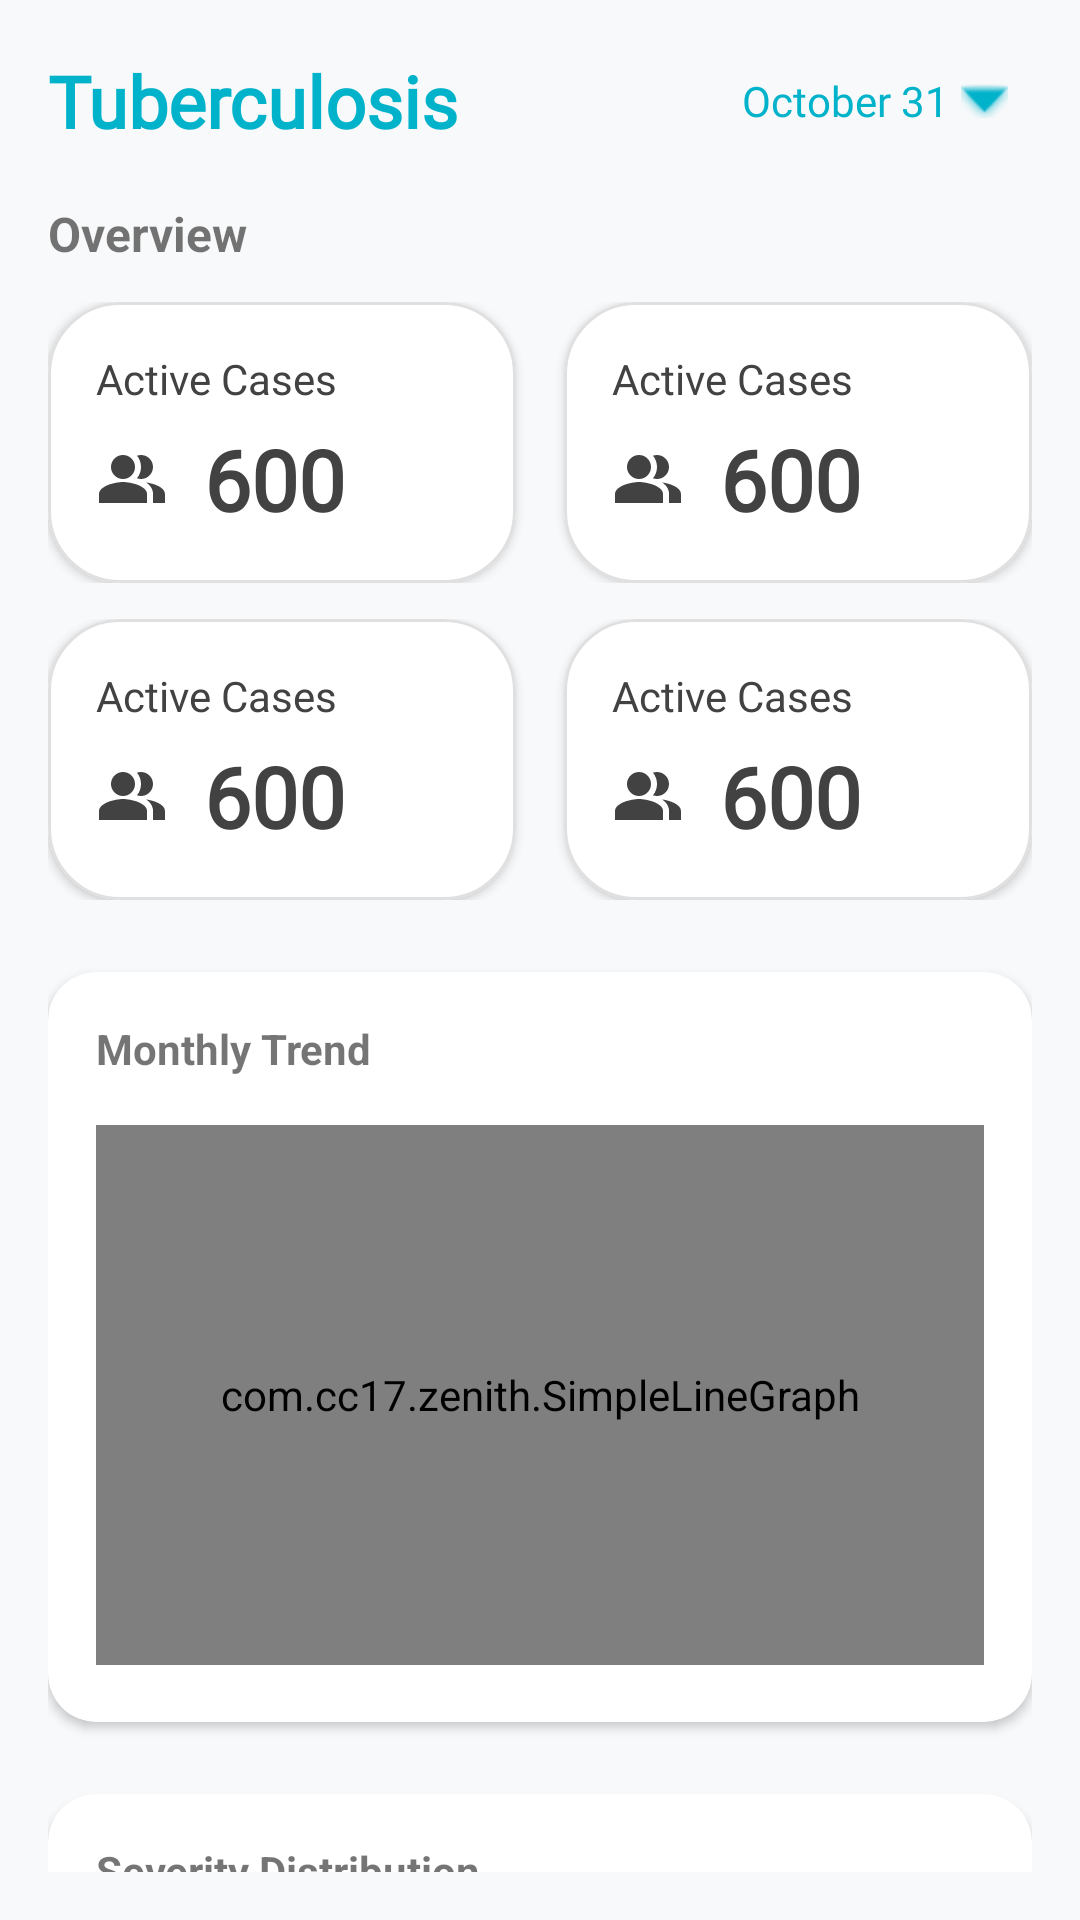

Screen size 1080*1920. Icon name, then its center in pixels as point (x, y):
people: point (132, 479), point (648, 479), point (132, 796), point (648, 796)
